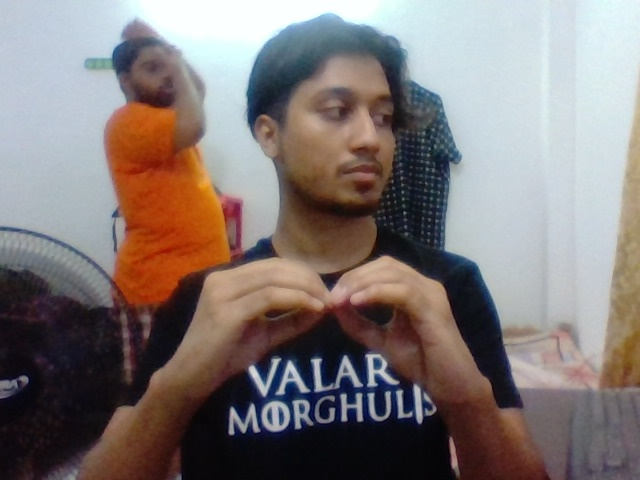B: (166, 216, 492, 394)
